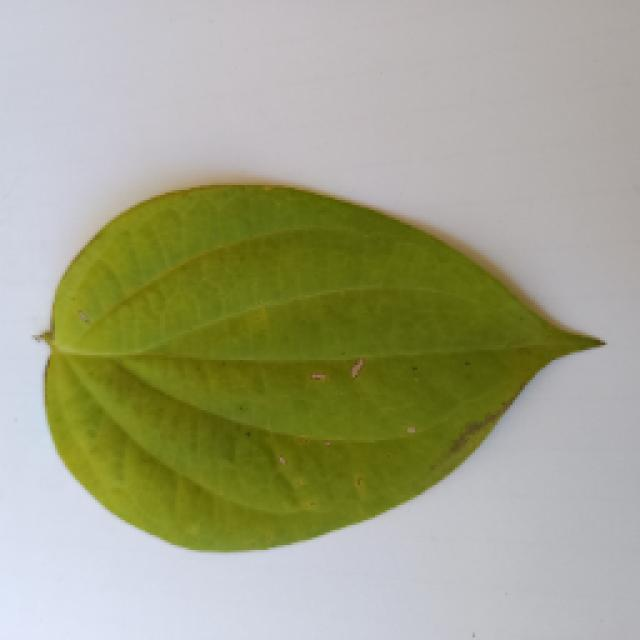slow-decline: (25, 177, 607, 565)
